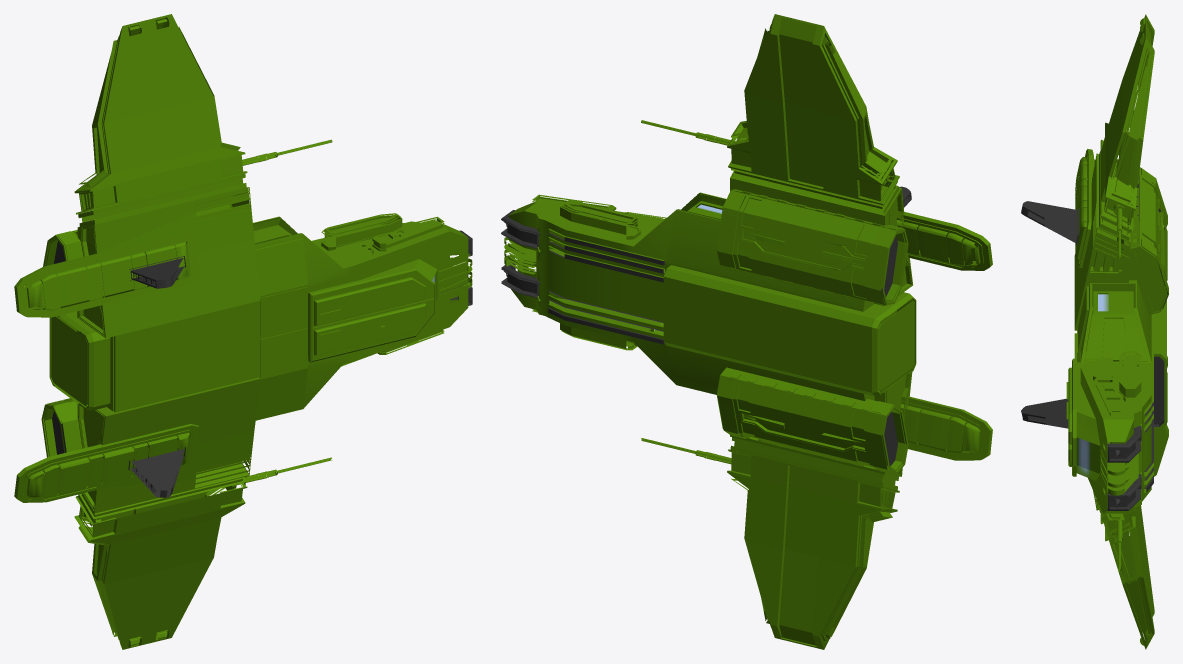
The model's file is spaceship.obj.
3 renders of one model, left to right at view 1: azimuth 30°, elevation 25°; view 2: azimuth 150°, elevation 25°; view 3: azimuth 270°, elevation 25°, orthographic.
Visible parts, largest first — view 1: Spaceship; view 2: Spaceship; view 3: Spaceship.
Boxes of the visible parts, x1,y1,x2,y2 form: Spaceship: (14, 14, 472, 649); Spaceship: (501, 14, 992, 649); Spaceship: (1021, 14, 1168, 649).
Size of the model in its own units: 3.64 by 4.62 by 1.01.
1 material, 1 textured.
